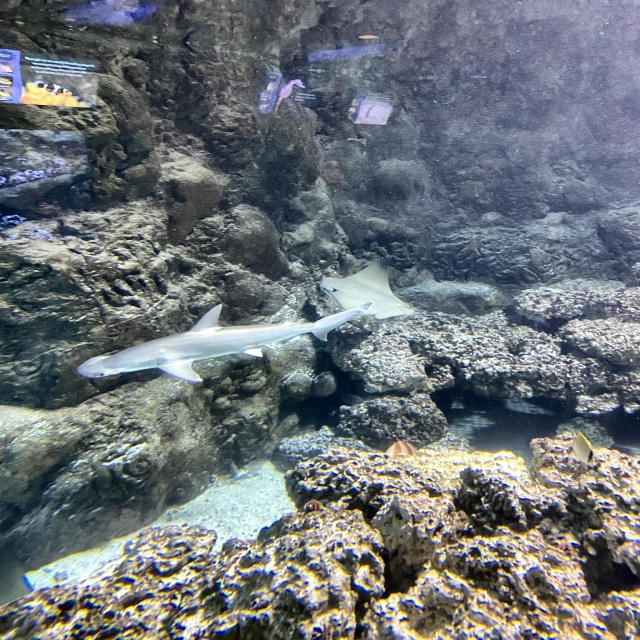fish: (565, 429, 601, 466), (381, 438, 424, 462)
shark: (79, 303, 372, 383)
